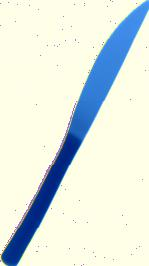Knife: (1, 1, 148, 266)
